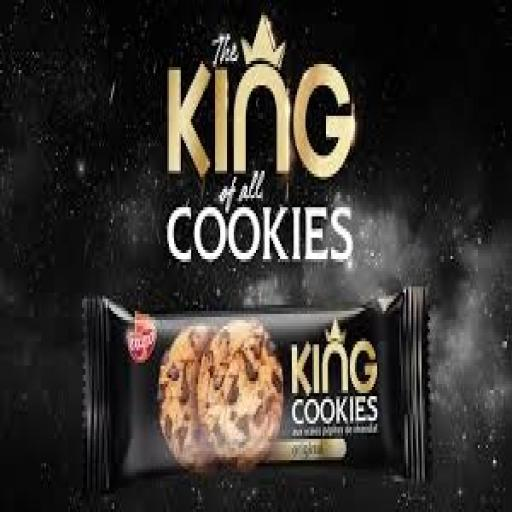king_cooking: (59, 234, 460, 501)
